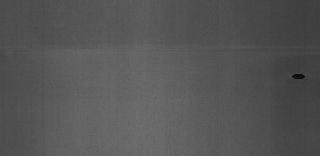punching hole: (290, 72, 306, 82)
welding line: (5, 40, 318, 56)
